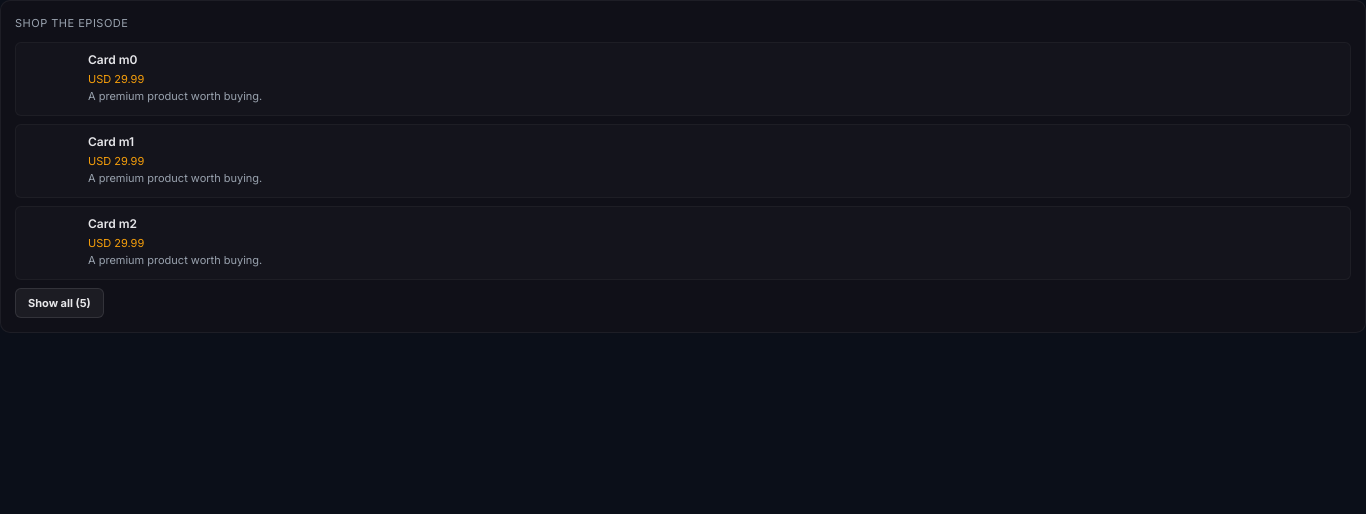
Test case: Phase 36d Turn 2 — ShoppableCards › Show all toggles when >3 cards
Click the button with test id "shoppable-show-all" at [59, 303], box [15, 288, 104, 318]
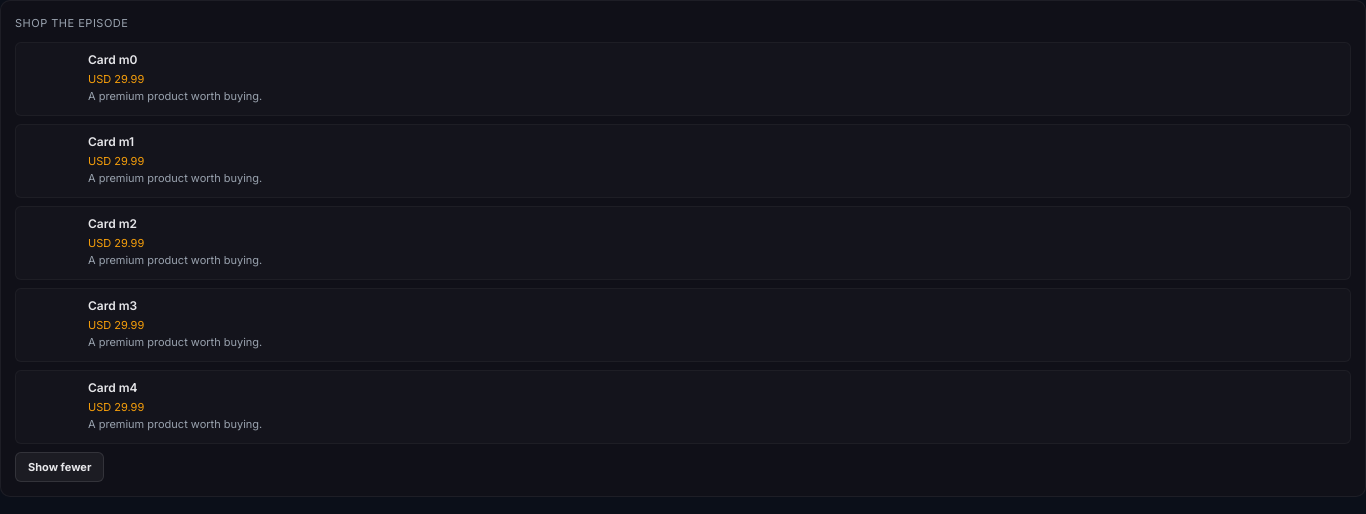
Now the link with test id "shoppable-tile-shc_m3" is shown, box [15, 288, 1351, 362]
